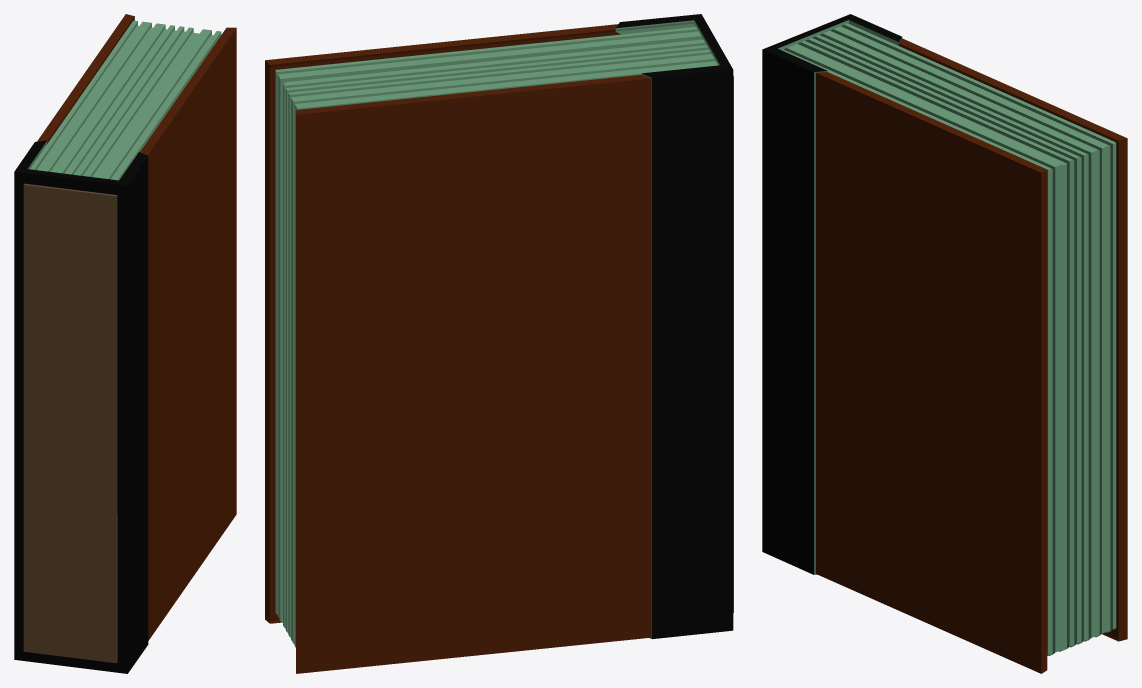
The model's file is TopShelfBook1.fbx.
3 renders of one model, left to right at view 1: azimuth 30°, elevation 25°; view 2: azimuth 150°, elevation 25°; view 3: azimuth 270°, elevation 25°, orthographic. The views are drawn at different scales.
Visible parts, largest first — view 1: Book.023; view 2: Book.023; view 3: Book.023.
Part boxes in pixels (<box>): Book.023: <box>14,14,236,673</box>; Book.023: <box>265,14,733,673</box>; Book.023: <box>762,14,1127,673</box>.
Bounding box in the file's own units: 118 × 175 × 115.
